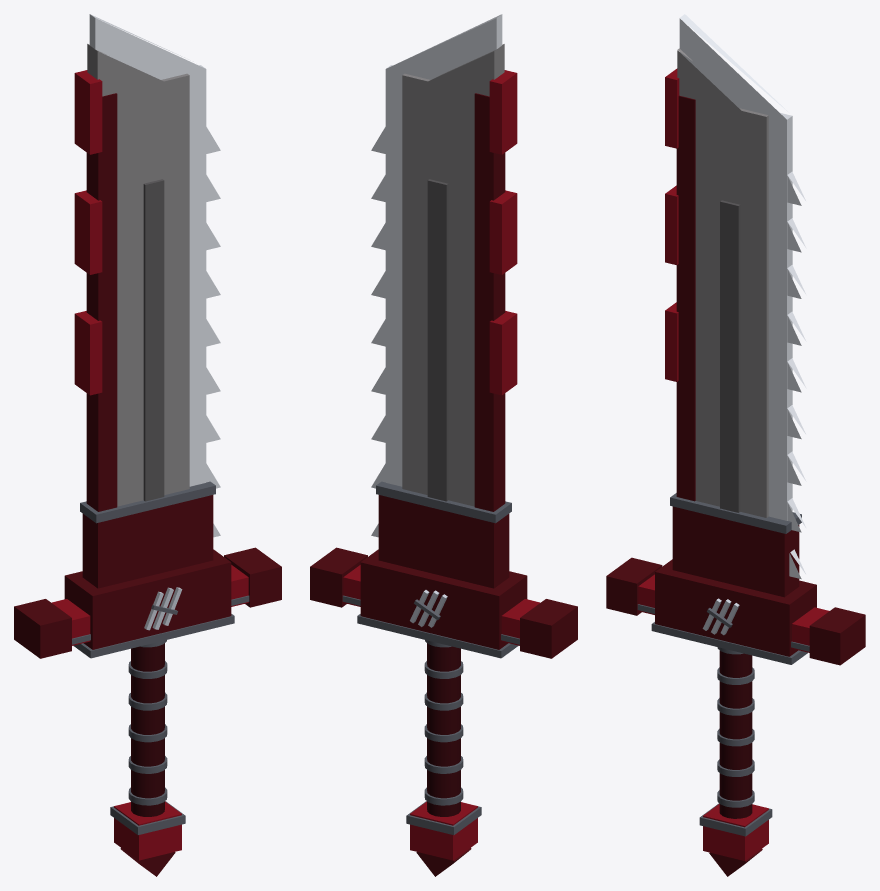
3 renders of one model, left to right at view 1: azimuth 30°, elevation 25°; view 2: azimuth 150°, elevation 25°; view 3: azimuth 330°, elevation 25°, orthographic. The views are drawn at different scales.
Visible parts, largest first — view 1: ashen-greatblade; view 2: ashen-greatblade; view 3: ashen-greatblade.
Part boxes in pixels (box(x1,y1,x2,y2)): ashen-greatblade: box(14, 14, 281, 876); ashen-greatblade: box(310, 14, 577, 876); ashen-greatblade: box(606, 14, 865, 876).
Bounding box in the file's own units: 0.4049 × 1.39 × 0.1025.
